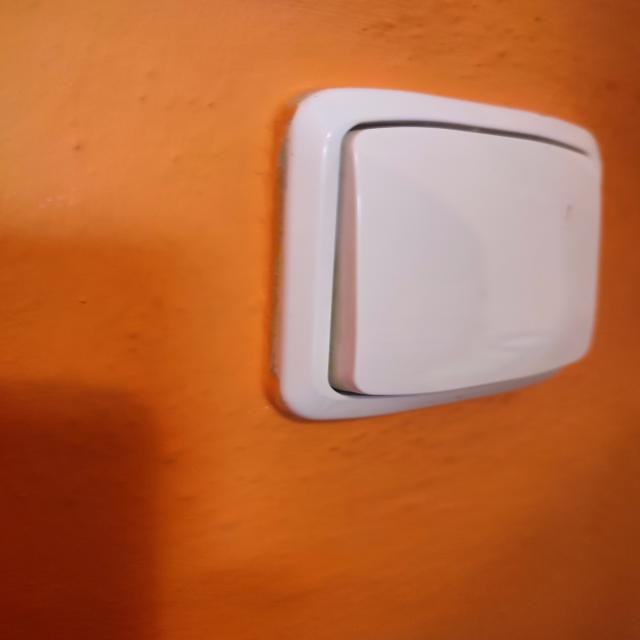house switch: (270, 89, 603, 421)
